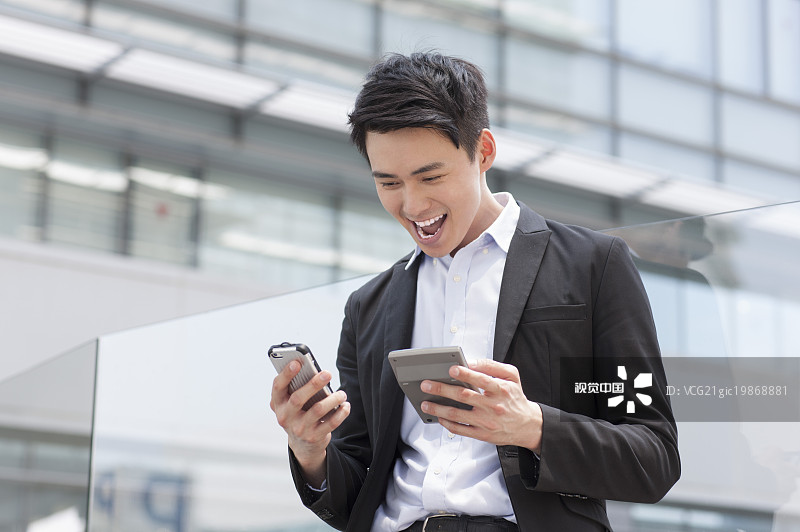no-phone: (381, 331, 549, 461), (253, 334, 361, 466)
